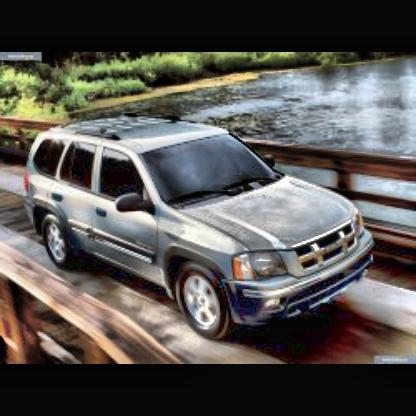Isuzu Ascender SUV 2008: (26, 115, 380, 341)
